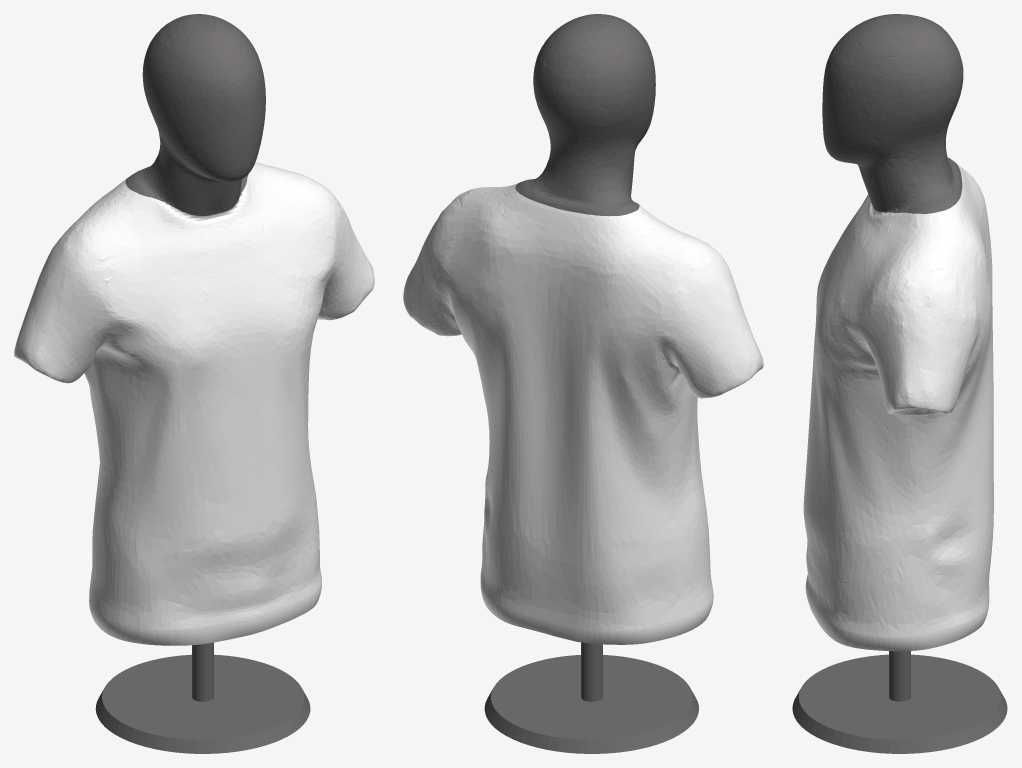
Rendered from camiseta-basica.glb.
The picture shows the model from 3 angles, left to right: view 1: azimuth 30°, elevation 25°; view 2: azimuth 150°, elevation 25°; view 3: azimuth 270°, elevation 25°; orthographic projection.
Size of the model in its own units: 0.8531 by 1.6 by 0.4533.
Materials: 2 (1 with a texture image).
